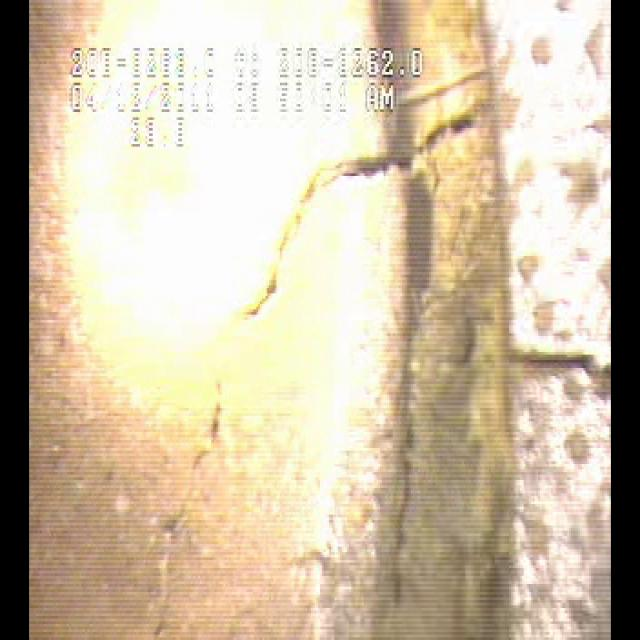Fracture: (131, 102, 483, 617)
